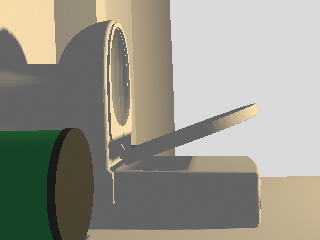lid_1: (120, 104, 256, 164)
